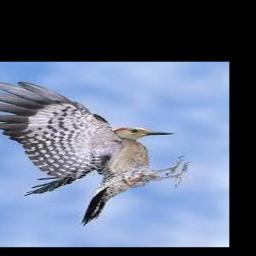Woodpecker: (0, 82, 191, 226)
